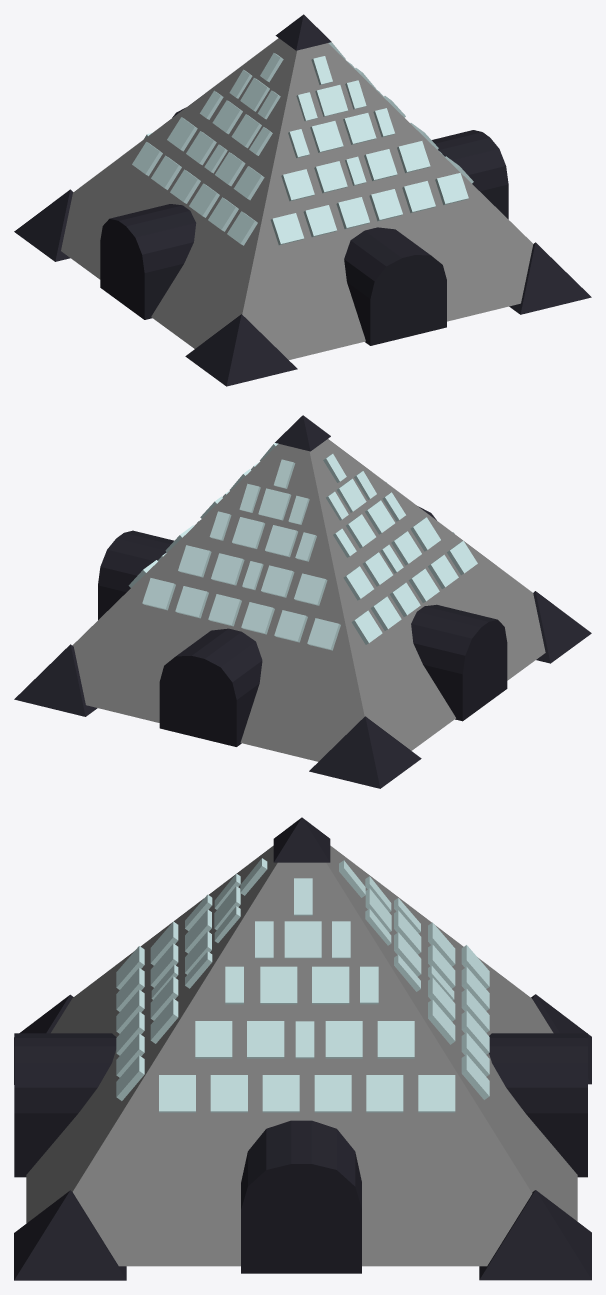
File: Headquarters4.fbx
3 renders of one model, top to bottom at view 1: azimuth 30°, elevation 25°; view 2: azimuth 150°, elevation 25°; view 3: azimuth 270°, elevation 25°, orthographic. The views are drawn at different scales.
Visible parts, largest first — view 1: Cone.001; view 2: Cone.001; view 3: Cone.001.
Part boxes in pixels (x1,y1,x2,y2): Cone.001: (14,14,591,386); Cone.001: (14,415,591,788); Cone.001: (14,817,591,1280).
Size of the model in its own units: 249 by 163 by 249.
